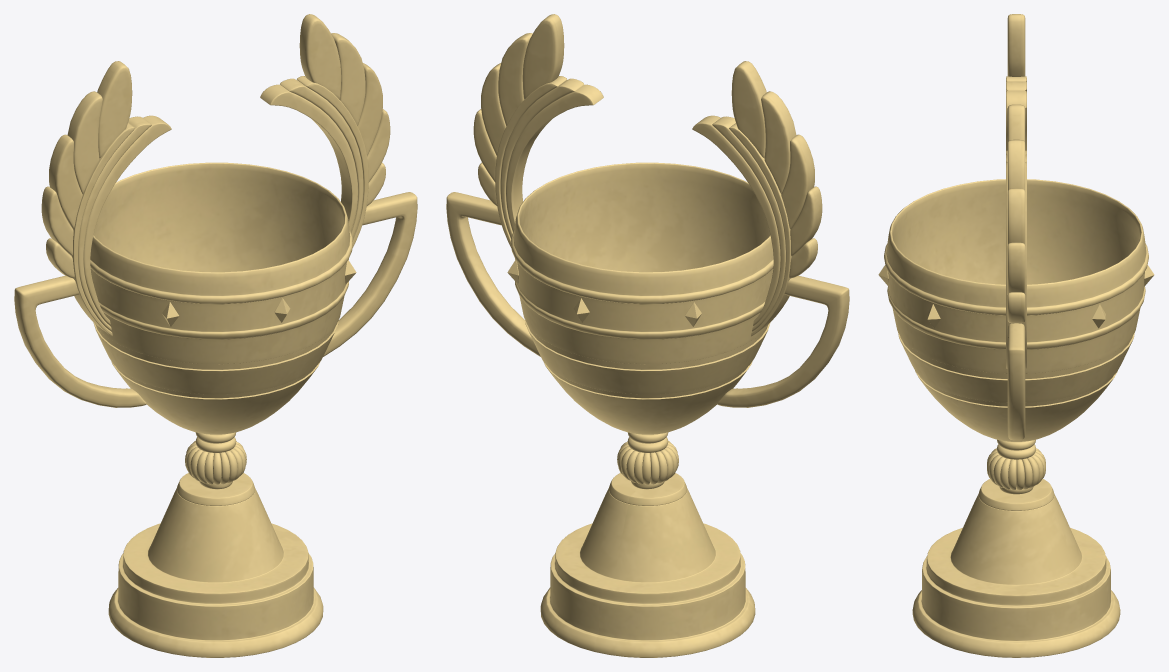
The model's file is Trophy-B.glb.
The picture shows the model from 3 angles, left to right: view 1: azimuth 30°, elevation 25°; view 2: azimuth 150°, elevation 25°; view 3: azimuth 270°, elevation 25°; orthographic projection. The views are drawn at different scales.
Visible parts, largest first — view 1: TrophyB; view 2: TrophyB; view 3: TrophyB.
Part boxes in pixels (x1,y1,x2,y2): TrophyB: (14, 14, 417, 657); TrophyB: (446, 14, 849, 657); TrophyB: (878, 14, 1154, 657).
Size of the model in its own units: 0.464 by 0.6384 by 0.2882.
1 material, 1 textured.
